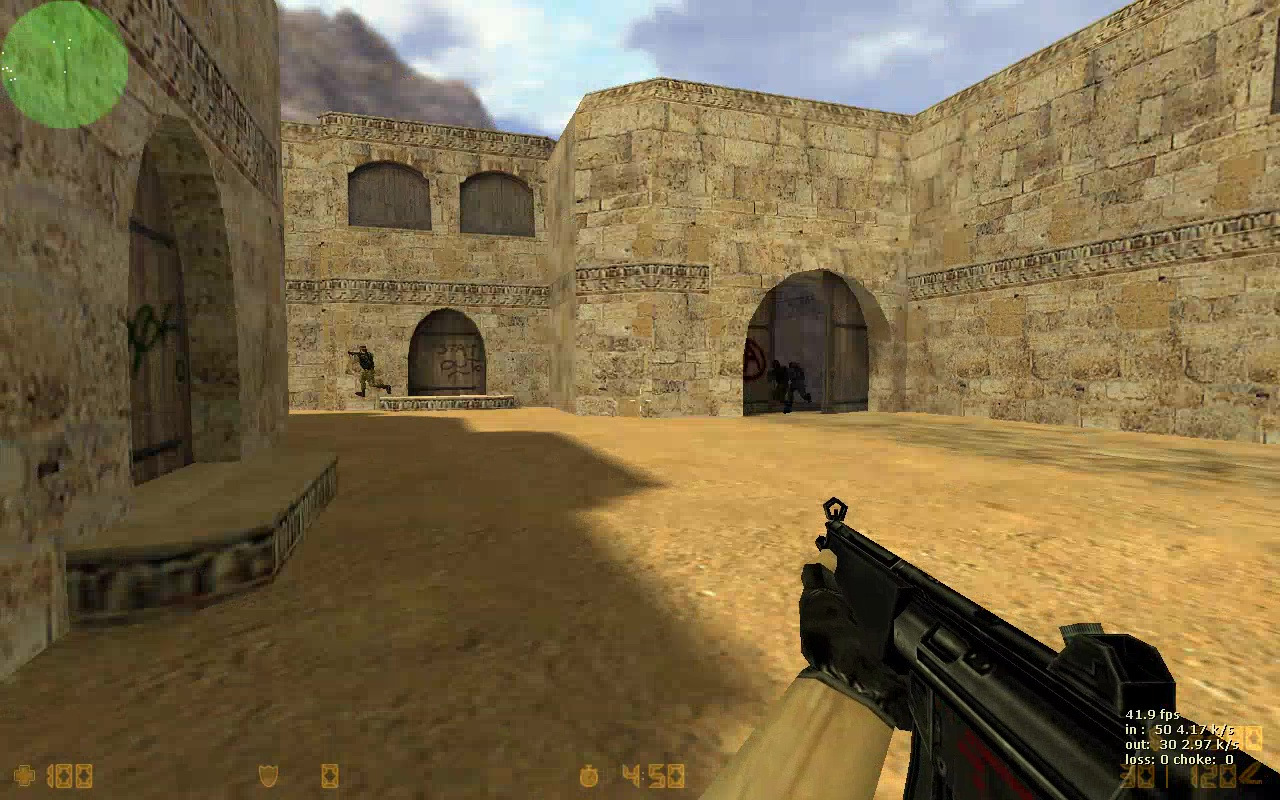terr1: (349, 345, 387, 400)
terr2: (788, 363, 813, 406)
